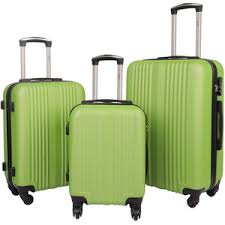suitcase: (127, 3, 225, 209), (1, 37, 88, 202), (65, 54, 149, 219)
